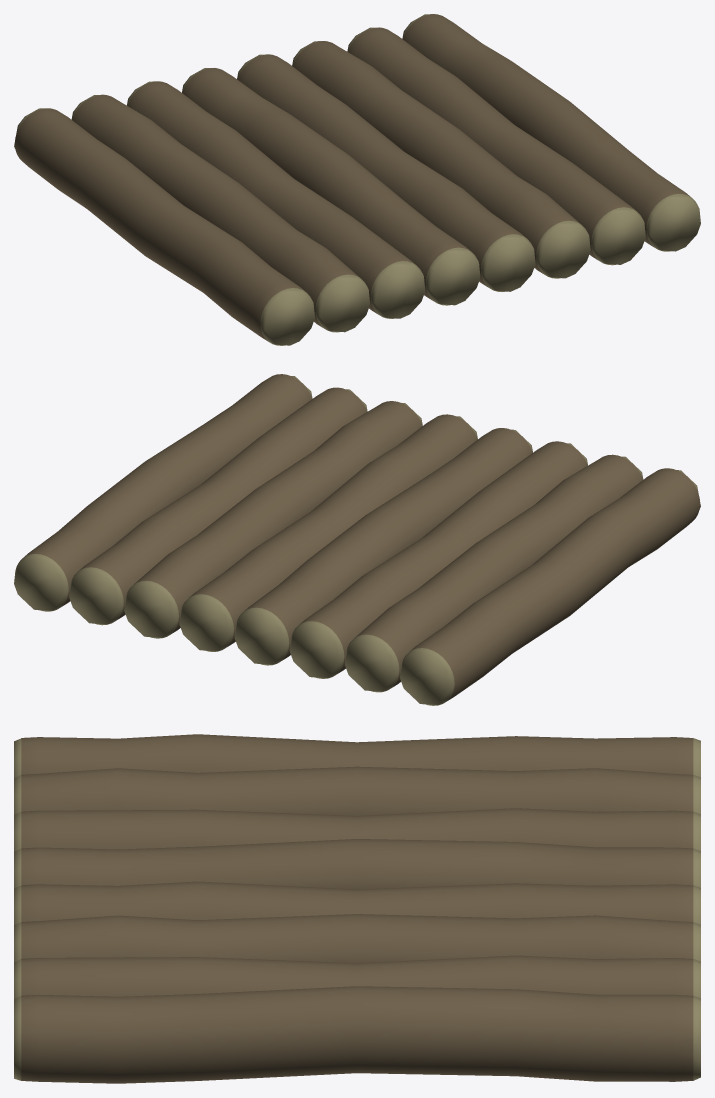
Rendered from roof.fbx.
The picture shows the model from 3 angles, top to bottom: view 1: azimuth 30°, elevation 25°; view 2: azimuth 150°, elevation 25°; view 3: azimuth 270°, elevation 25°; orthographic projection. The views are drawn at different scales.
Visible parts, largest first — view 1: Cylinder.002; view 2: Cylinder.002; view 3: Cylinder.002.
Part boxes in pixels (x1=…): Cylinder.002: x1=14, y1=14, x2=700, y2=345; Cylinder.002: x1=14, y1=374, x2=700, y2=705; Cylinder.002: x1=14, y1=734, x2=700, y2=1083.
Bounding box in the file's own units: 1388 × 204 × 1368.
